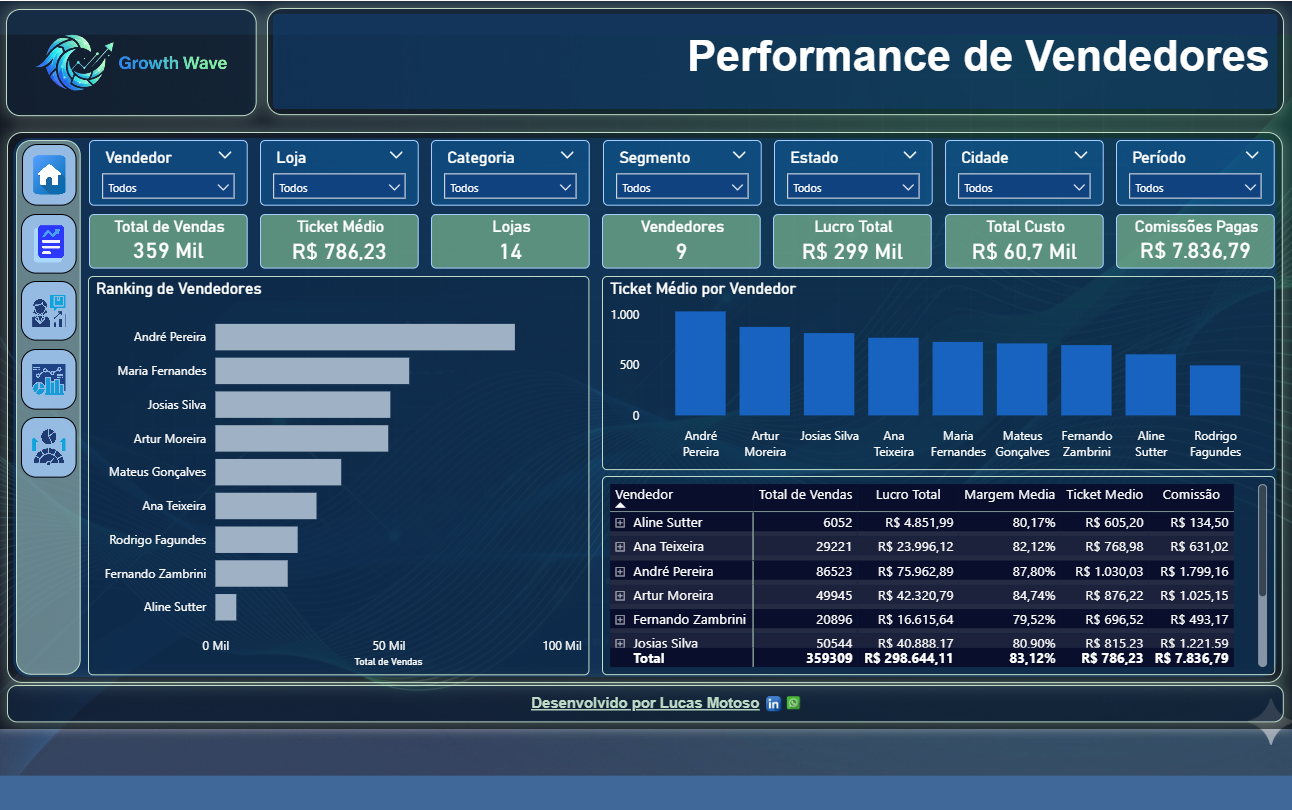

Layout of this report page (visuals, bound fields, positions):
{"tool":"powerbi","page":{"name":"Performance de Vendedores","canvas":[1280,720],"ordinal":4},"visuals":[{"type":"image","box":[8,7.9,248.4,105.7],"z":0},{"type":"textbox","box":[8.9,676.9,1262.8,36.6],"z":0,"group":"g1"},{"type":"shape","box":[8.6,121.8,1262.8,545.2],"z":1000},{"type":"image","box":[755.1,682.8,25,25],"z":1000,"group":"g1"},{"type":"shape","box":[265.8,7.4,1005.5,105.8],"z":2000},{"type":"image","box":[774.3,682.1,25,25],"z":2000,"group":"g1"},{"type":"textbox","box":[265.8,25.8,996.9,68.9],"z":3000},{"type":"shape","box":[17.8,129.6,64.3,529.5],"z":4000},{"type":"image","box":[23.3,141.5,54.4,61.4],"z":5000},{"type":"image","box":[22.8,210.3,55.4,59.4],"z":6000},{"type":"image","box":[22.8,277.1,55.4,59.4],"z":7000},{"type":"image","box":[22.8,343.9,55.4,60.4],"z":8000},{"type":"image","box":[22.8,411.7,55.4,60.4],"z":9000},{"type":"group","id":"g1","title":"Grupo 1","box":[8.9,676.9,1262.8,36.6],"z":10000}]}

Visuals, with their boxes on the page's 1280x720 design canvas (x1, y1, x2, y2). These are canvas units, not pixel positions in the 1292x810 screenshot, which may show the page scaled, cropped or inside an application window:
image: <region>8, 8, 256, 114</region>
textbox: <region>9, 677, 1272, 714</region>
shape: <region>9, 122, 1271, 667</region>
image: <region>755, 683, 780, 708</region>
shape: <region>266, 7, 1271, 113</region>
image: <region>774, 682, 799, 707</region>
textbox: <region>266, 26, 1263, 95</region>
shape: <region>18, 130, 82, 659</region>
image: <region>23, 142, 78, 203</region>
image: <region>23, 210, 78, 270</region>
image: <region>23, 277, 78, 336</region>
image: <region>23, 344, 78, 404</region>
image: <region>23, 412, 78, 472</region>
"Grupo 1" group: <region>9, 677, 1272, 714</region>
